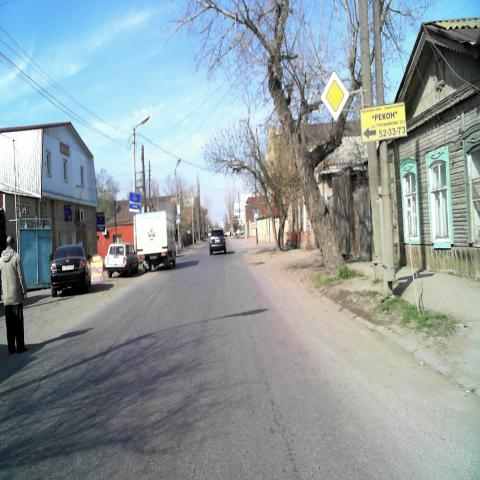5_7_1: (130, 202, 140, 214)
